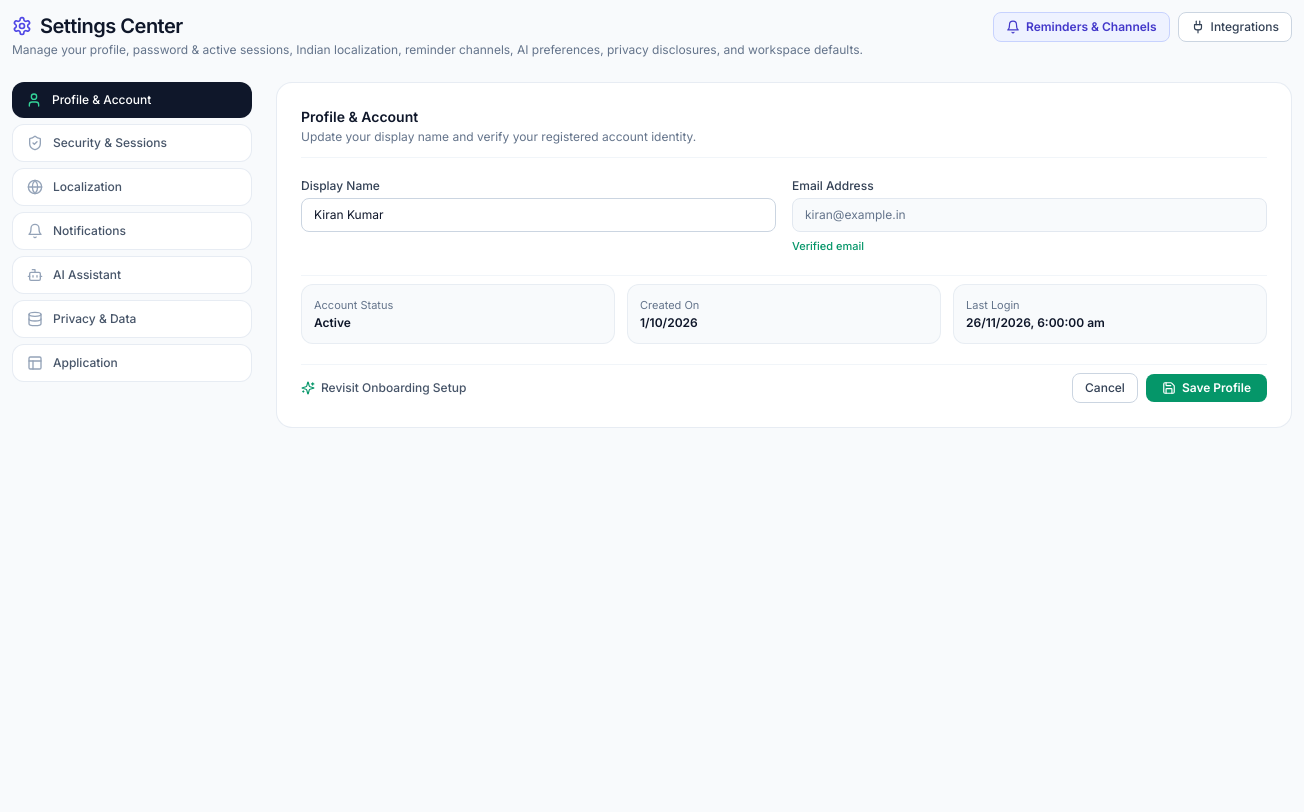
Test: Pre-Phase 12 Integrations & Settings Centers › navigates Settings tabs, validates password confirmation, saves profile & privacy summary
// Profile edit
Replace the text in the field labelled "Display Name" with "Kiran Updated" at point(538, 215), box [301, 198, 776, 232]
Click the button "Save Profile" at point(1206, 388), box [1146, 374, 1267, 402]
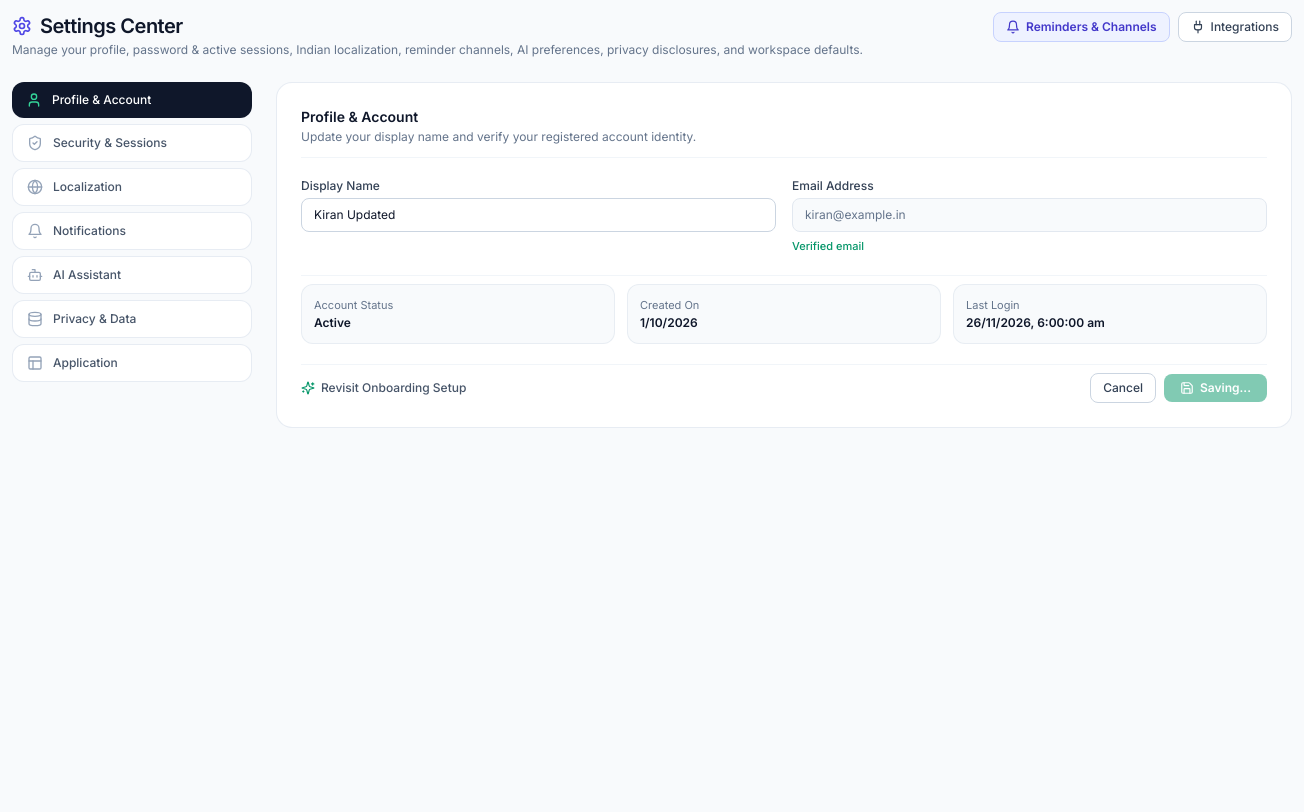
Click the tab "Security & Sessions" at point(132, 143), box [12, 124, 252, 162]
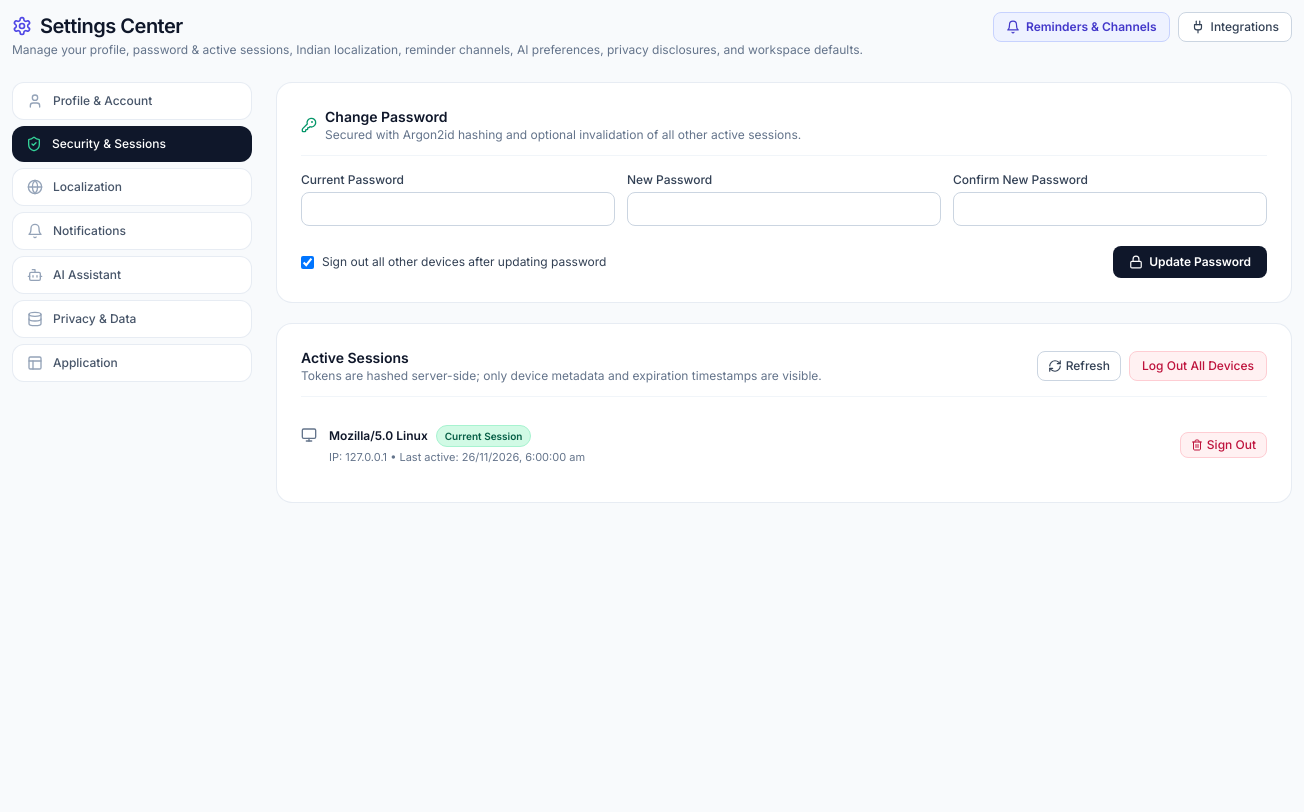
expect the text "Current Session" is shown: met, box [436, 425, 531, 447]
Type "OldPass123!" into the password field labelled "Current Password" at point(458, 209), box [301, 192, 615, 226]
Type "NewStrongPass456!" into the password field labelled "New Password" at point(784, 209), box [627, 192, 941, 226]
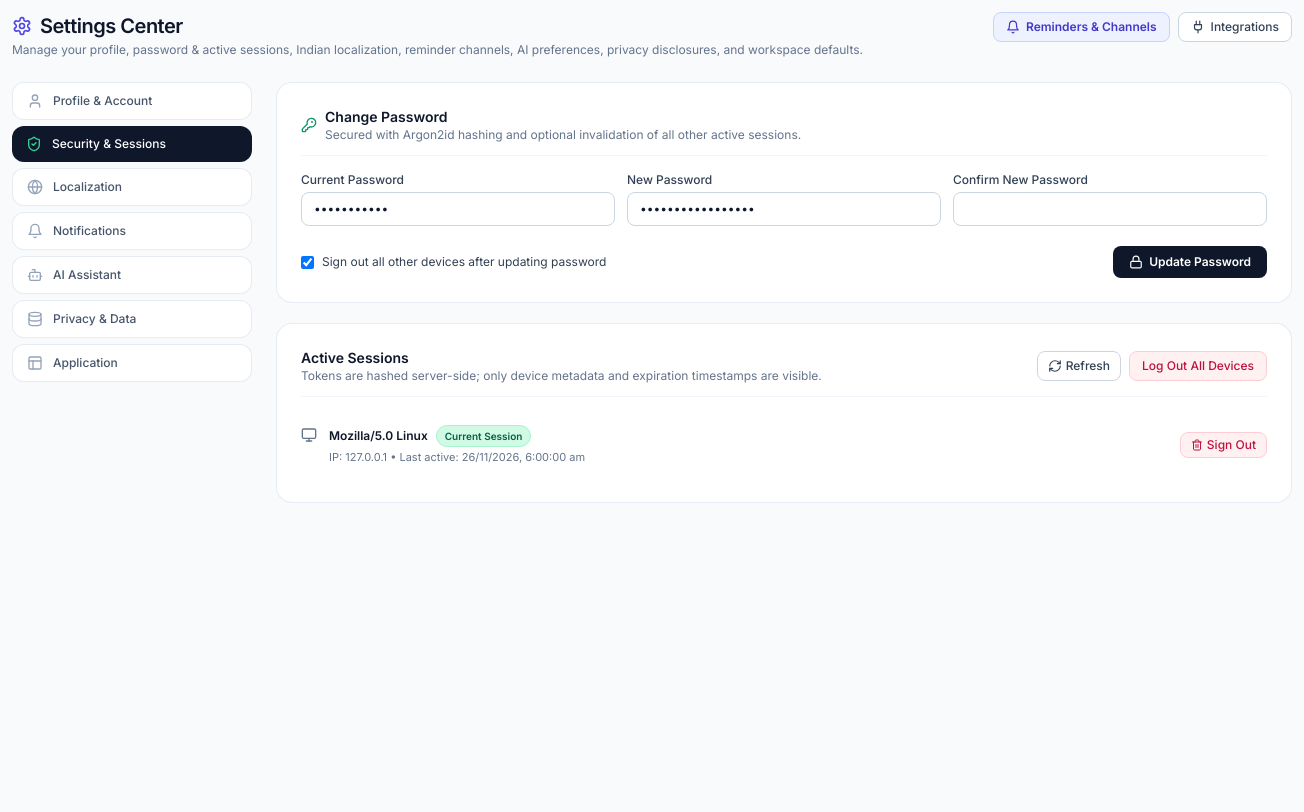
Type "NewStrongPass456!" into the password field labelled "Confirm New Password" at point(1110, 209), box [953, 192, 1267, 226]
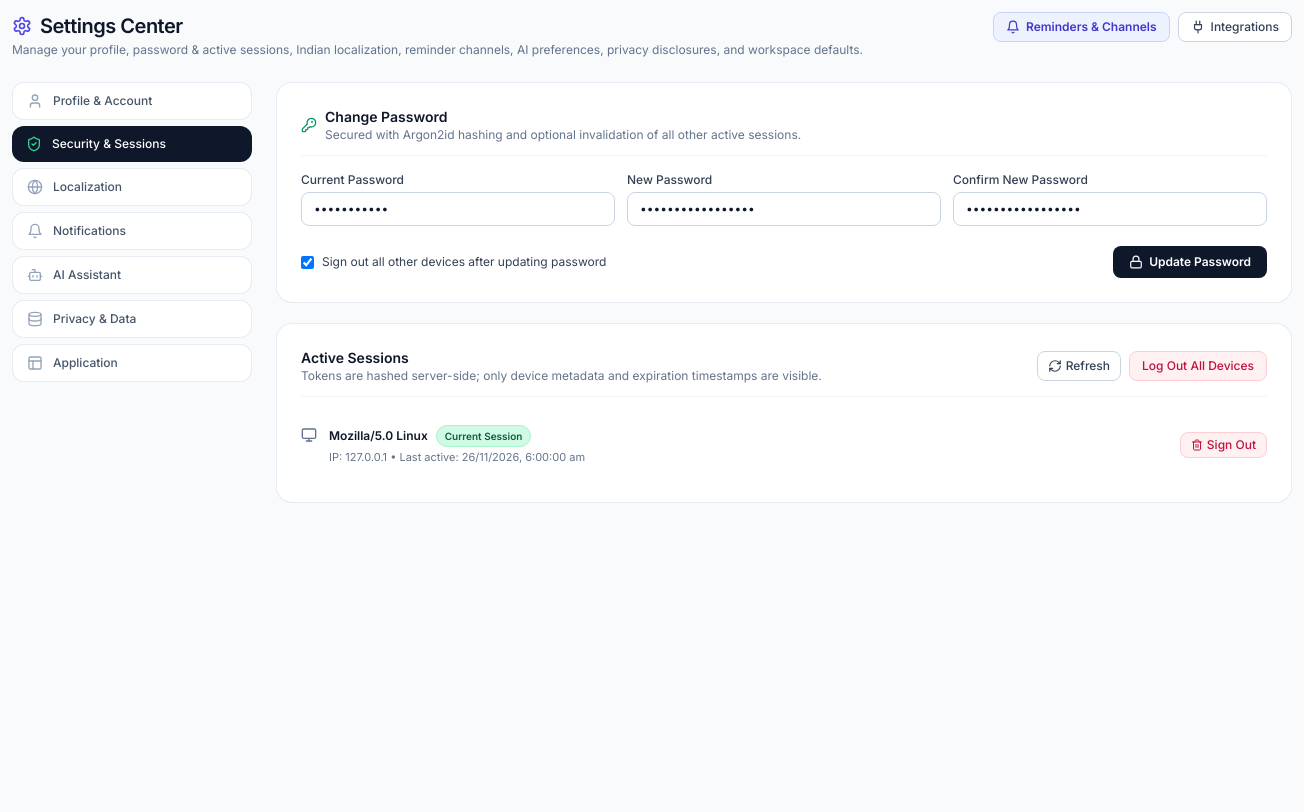
Click the button "Update Password" at point(1190, 262), box [1113, 246, 1267, 278]
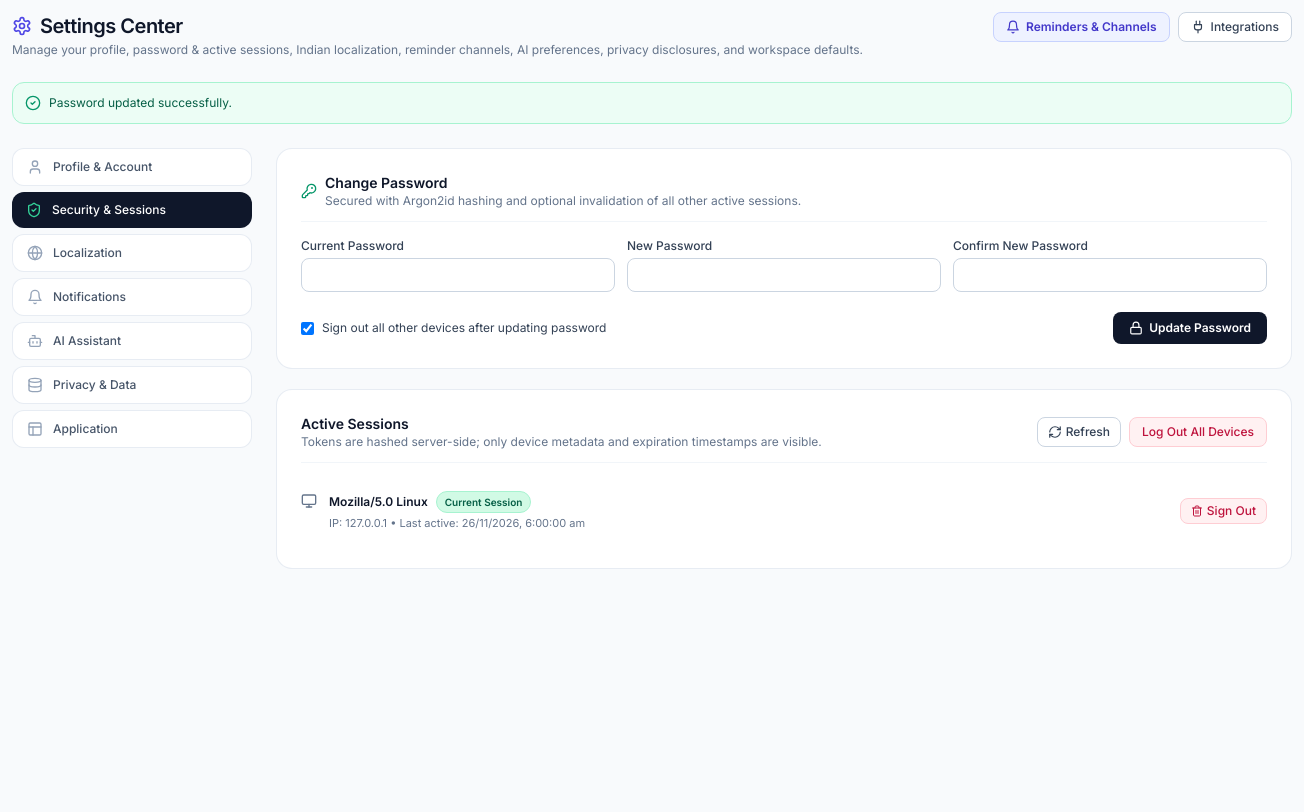
// Privacy & Data tab
Click the tab "Privacy & Data" at point(132, 385), box [12, 366, 252, 404]
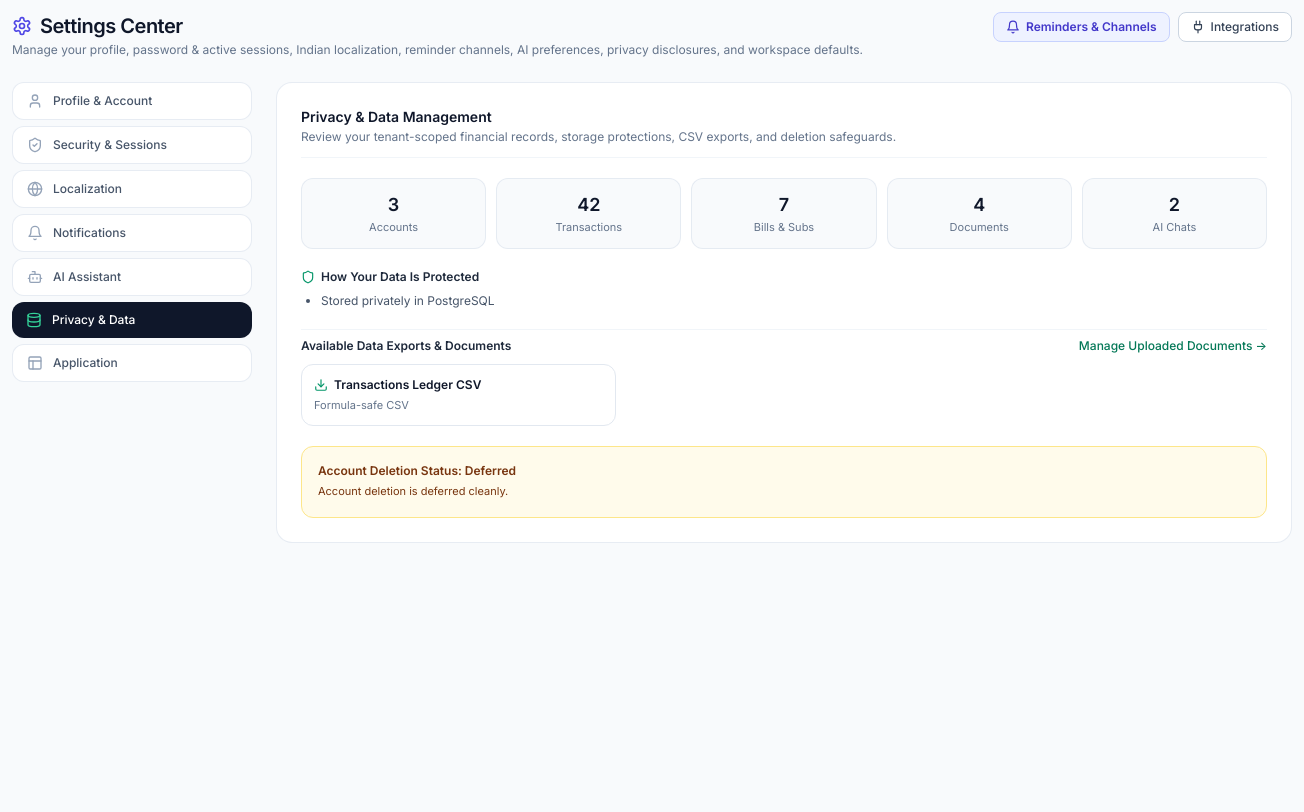
expect the text "42" is shown: met, box [577, 194, 600, 215]
expect the text "Account Deletion Status: Deferred" is shown: met, box [318, 463, 516, 478]
